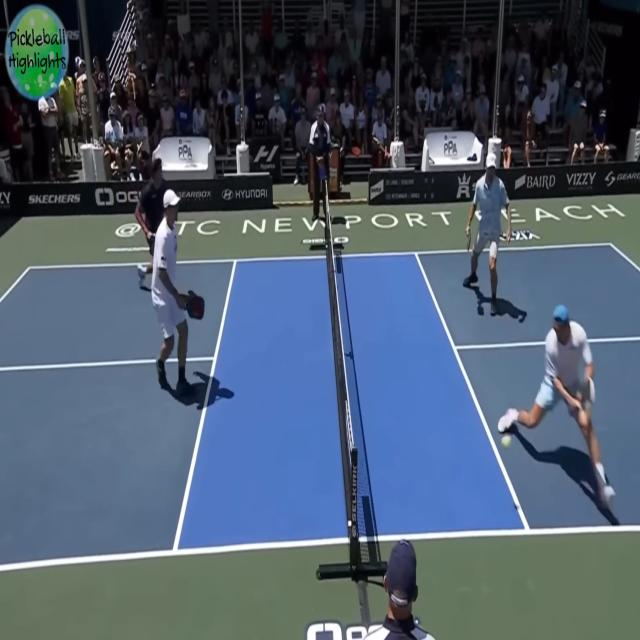ball: (499, 430, 514, 454)
